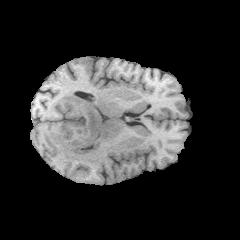glioma: (51, 95, 106, 163)
